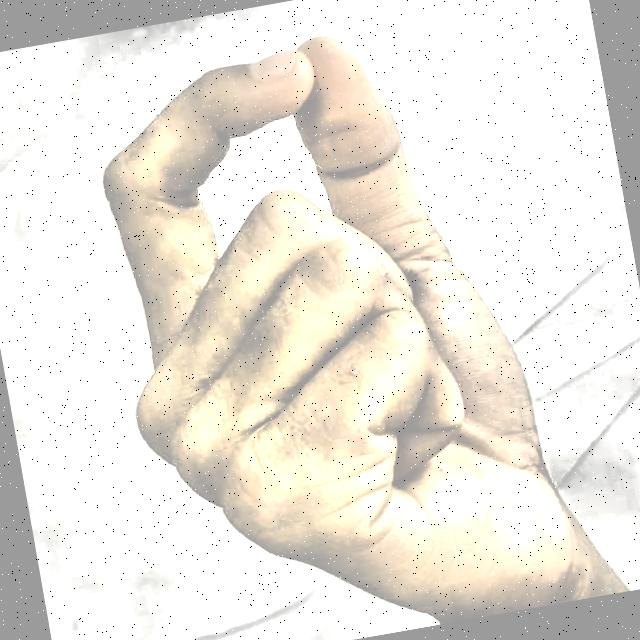Gha: (39, 0, 633, 640)
